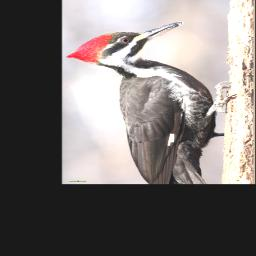Woodpecker: (66, 19, 232, 184)
